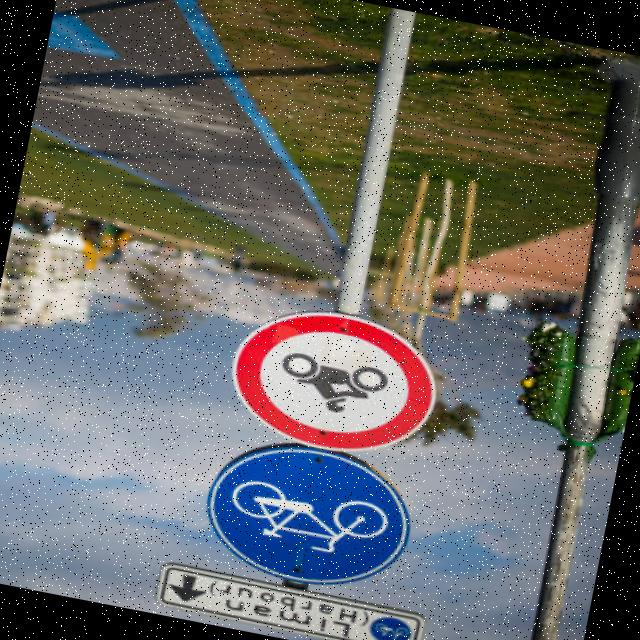bicycle: (183, 426, 426, 608)
